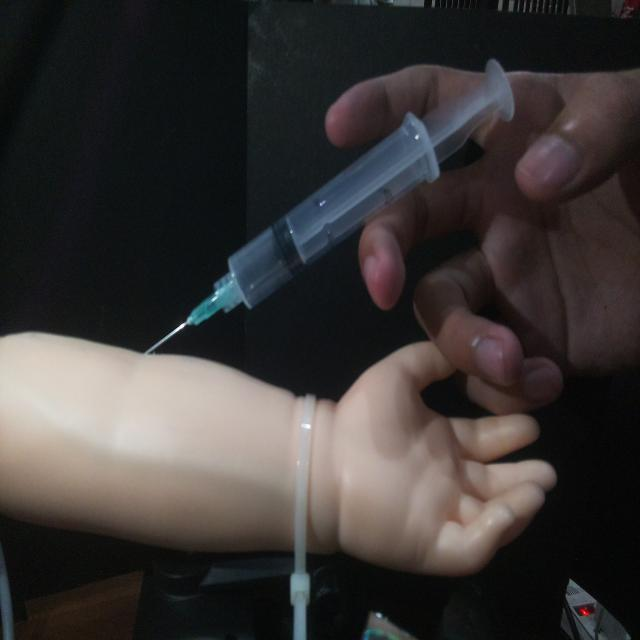29deg: (140, 54, 518, 358)
